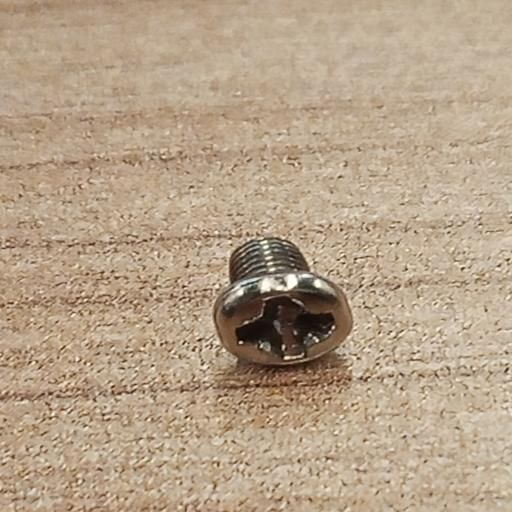Phillips: (206, 266, 353, 382)
